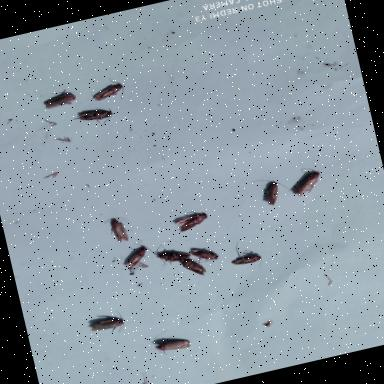pbw: (226, 236, 268, 276), (286, 162, 330, 200), (83, 306, 129, 342), (69, 102, 119, 133), (150, 240, 194, 272), (86, 76, 128, 109), (151, 326, 193, 358), (119, 240, 160, 272), (102, 213, 138, 248), (257, 176, 296, 208), (171, 206, 212, 236), (39, 86, 80, 114), (186, 240, 222, 268), (177, 251, 209, 282)
